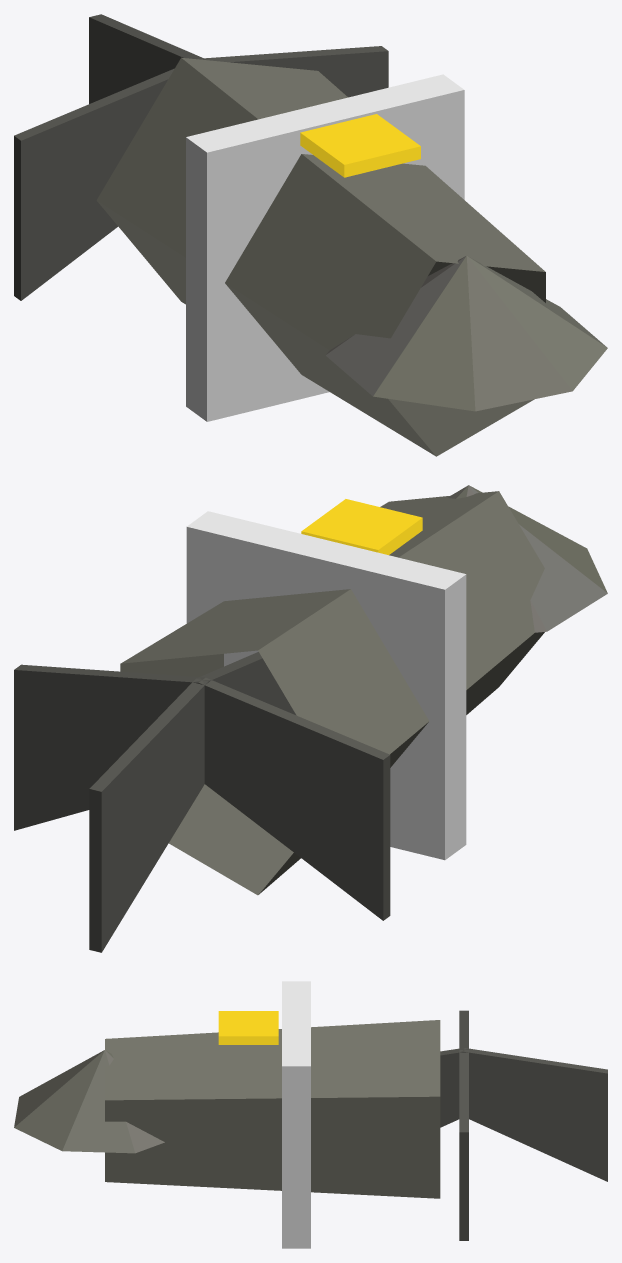
The model's file is Atomic Bomb.glb.
3 views of the same model, one above another, from view 1: azimuth 30°, elevation 25°; view 2: azimuth 150°, elevation 25°; view 3: azimuth 270°, elevation 25° (orthographic). The views are drawn at different scales.
Visible parts, largest first — view 1: Units_Atomic Bomb; view 2: Units_Atomic Bomb; view 3: Units_Atomic Bomb.
Boxes of the visible parts, x1,y1,x2,y2 form: Units_Atomic Bomb: (14,14,607,456); Units_Atomic Bomb: (14,485,607,952); Units_Atomic Bomb: (14,981,607,1248).
Bounding box in the file's own units: 0.12 × 0.084 × 0.2479.
